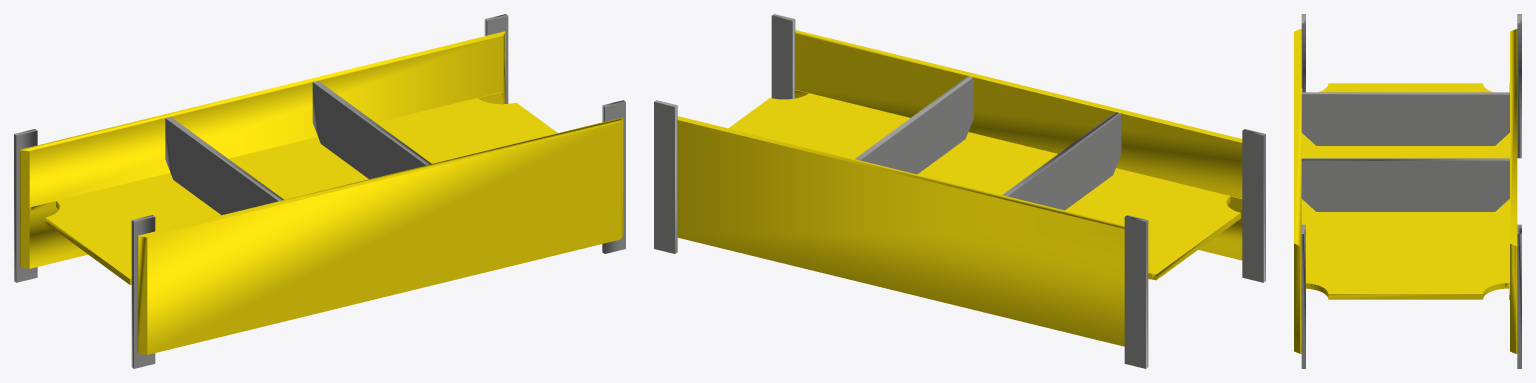
The picture shows the model from 3 angles, left to right: view 1: azimuth 30°, elevation 25°; view 2: azimuth 150°, elevation 25°; view 3: azimuth 270°, elevation 25°; orthographic projection. The views are drawn at different scales.
Visible parts, largest first — view 1: product-b889e5ac-d8d8-4639-aafc-fcfe48b32302-body, product-1afb3916-b934-4e74-8b3b-a66281f35313-body, product-59f5bdc9-4b2b-4174-9efb-6cff4586af19-body, product-5183e836-6eb8-4504-b878-8364145f6089-body, product-37e28bea-354e-4ffc-8670-675cc39ffeee-body, product-72a14e4e-c1e9-416a-a198-7764ff57158e-body, product-27a4aaeb-88df-4fd5-a999-47f3693ad67d-body; view 2: product-b889e5ac-d8d8-4639-aafc-fcfe48b32302-body, product-59f5bdc9-4b2b-4174-9efb-6cff4586af19-body, product-1afb3916-b934-4e74-8b3b-a66281f35313-body, product-37e28bea-354e-4ffc-8670-675cc39ffeee-body, product-27a4aaeb-88df-4fd5-a999-47f3693ad67d-body, product-5183e836-6eb8-4504-b878-8364145f6089-body, product-72a14e4e-c1e9-416a-a198-7764ff57158e-body; view 3: product-b889e5ac-d8d8-4639-aafc-fcfe48b32302-body, product-1afb3916-b934-4e74-8b3b-a66281f35313-body, product-59f5bdc9-4b2b-4174-9efb-6cff4586af19-body, product-27a4aaeb-88df-4fd5-a999-47f3693ad67d-body, product-37e28bea-354e-4ffc-8670-675cc39ffeee-body, product-72a14e4e-c1e9-416a-a198-7764ff57158e-body, product-5183e836-6eb8-4504-b878-8364145f6089-body.
Boxes of the visible parts, x1,y1,x2,y2 form: product-b889e5ac-d8d8-4639-aafc-fcfe48b32302-body: (20, 31, 623, 354); product-1afb3916-b934-4e74-8b3b-a66281f35313-body: (312, 81, 431, 179); product-59f5bdc9-4b2b-4174-9efb-6cff4586af19-body: (165, 117, 283, 215); product-5183e836-6eb8-4504-b878-8364145f6089-body: (131, 215, 155, 368); product-37e28bea-354e-4ffc-8670-675cc39ffeee-body: (14, 129, 37, 282); product-72a14e4e-c1e9-416a-a198-7764ff57158e-body: (602, 100, 625, 253); product-27a4aaeb-88df-4fd5-a999-47f3693ad67d-body: (484, 14, 508, 103); product-b889e5ac-d8d8-4639-aafc-fcfe48b32302-body: (677, 30, 1242, 346); product-59f5bdc9-4b2b-4174-9efb-6cff4586af19-body: (1002, 112, 1121, 210); product-1afb3916-b934-4e74-8b3b-a66281f35313-body: (854, 76, 973, 174); product-37e28bea-354e-4ffc-8670-675cc39ffeee-body: (1124, 215, 1148, 368); product-27a4aaeb-88df-4fd5-a999-47f3693ad67d-body: (654, 100, 677, 253); product-5183e836-6eb8-4504-b878-8364145f6089-body: (1242, 129, 1265, 282); product-72a14e4e-c1e9-416a-a198-7764ff57158e-body: (771, 14, 795, 99); product-b889e5ac-d8d8-4639-aafc-fcfe48b32302-body: (1294, 29, 1517, 353); product-1afb3916-b934-4e74-8b3b-a66281f35313-body: (1301, 158, 1509, 211); product-59f5bdc9-4b2b-4174-9efb-6cff4586af19-body: (1301, 92, 1509, 145); product-27a4aaeb-88df-4fd5-a999-47f3693ad67d-body: (1517, 224, 1521, 368); product-37e28bea-354e-4ffc-8670-675cc39ffeee-body: (1517, 14, 1521, 158); product-72a14e4e-c1e9-416a-a198-7764ff57158e-body: (1301, 224, 1305, 368); product-5183e836-6eb8-4504-b878-8364145f6089-body: (1301, 14, 1305, 92).
Bounding box in the file's own units: 0.7 × 0.2 × 0.306.
